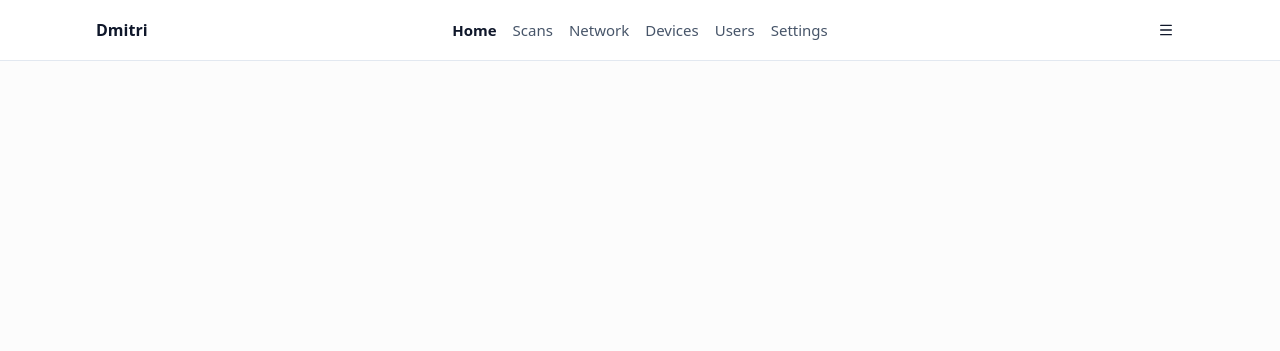
TopBar › groups theme, language, account and logout in the options menu
The image size is (1280, 351).
Click the button with test id "options-menu-toggle". click: (1166, 30)
box: [1148,12,1184,48]
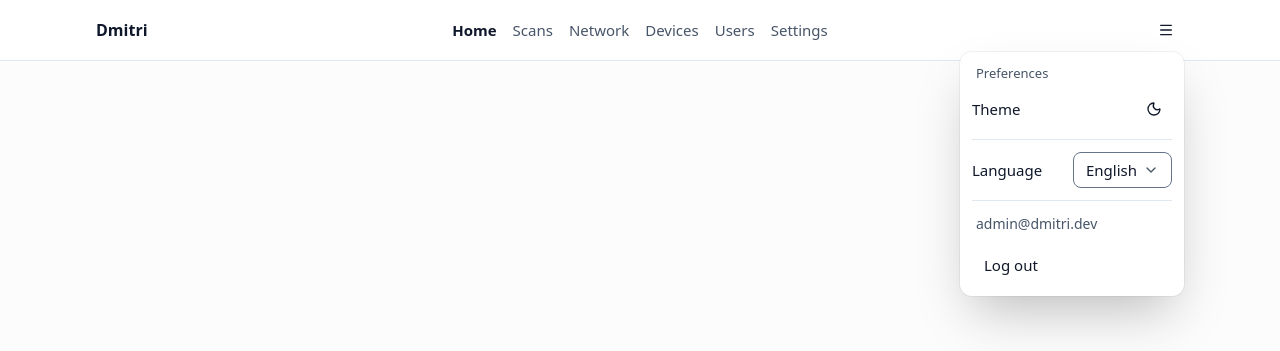
expect the button titled "Modo noturno" is shown: met, box [1136,91,1172,127]
expect the dropdown named "Idioma" is shown: met, box [1073,152,1172,188]
expect the text "admin@dmitri.dev" is shown: met, box [976,214,1097,233]
